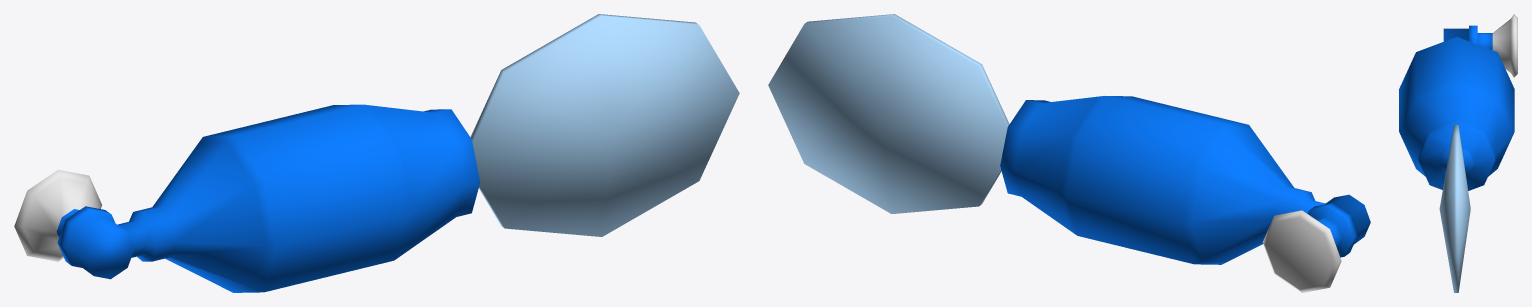
The picture shows the model from 3 angles, left to right: view 1: azimuth 30°, elevation 25°; view 2: azimuth 150°, elevation 25°; view 3: azimuth 270°, elevation 25°; orthographic projection. The views are drawn at different scales.
Visible parts, largest first — view 1: Circle.001; view 2: Circle.001; view 3: Circle.001.
Boxes of the visible parts, x1=… form: Circle.001: x1=14, y1=14, x2=739, y2=292; Circle.001: x1=768, y1=14, x2=1370, y2=292; Circle.001: x1=1399, y1=14, x2=1517, y2=292.
Bounding box in the file's own units: 37.45 × 11.6 × 8.46.
